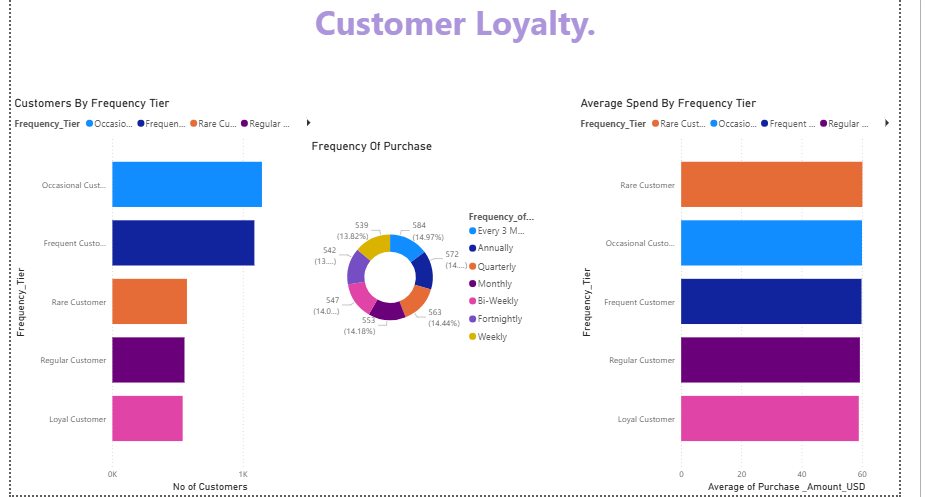

Layout of this report page (visuals, bound fields, positions):
{"tool":"powerbi","page":{"name":"Page 3","canvas":[1280,720],"ordinal":2},"visuals":[{"type":"barChart","title":"Customers By Frequency Tier","fields":{"Category":["shopping_behavior_updated (1)(working sheet).Frequency_Tier"],"Y":["CountNonNull(shopping_behavior_updated (1)(working sheet).Customer_ID)"],"Series":["shopping_behavior_updated (1)(working sheet).Frequency_Tier"]},"box":[0,145.6,447.6,575.3],"z":0},{"type":"barChart","title":"Average Spend By Frequency Tier","fields":{"Category":["shopping_behavior_updated (1)(working sheet).Frequency_Tier"],"Y":["Avg(shopping_behavior_updated (1)(working sheet).Purchase _Amount_USD)"],"Series":["shopping_behavior_updated (1)(working sheet).Frequency_Tier"]},"box":[814.4,145.6,465.6,575.3],"z":1000},{"type":"donutChart","title":"Frequency Of Purchase","fields":{"Category":["shopping_behavior_updated (1)(working sheet).Frequency_of_Purchases"],"Y":["CountNonNull(shopping_behavior_updated (1)(working sheet).Customer_ID)"]},"box":[427.9,206.7,334.4,379.3],"z":2000},{"type":"textbox","box":[0,0,1280,98.9],"z":3000}]}

Visuals, with their boxes on the page's 1280x720 design canvas (x1, y1, x2, y2). These are canvas units, not pixel positions in the 927x497 screenshot, which may show the page scaled, cropped or inside an application window:
"Customers By Frequency Tier" barChart: bbox(0, 146, 448, 721)
"Average Spend By Frequency Tier" barChart: bbox(814, 146, 1280, 721)
"Frequency Of Purchase" donutChart: bbox(428, 207, 762, 586)
textbox: bbox(0, 0, 1280, 99)
